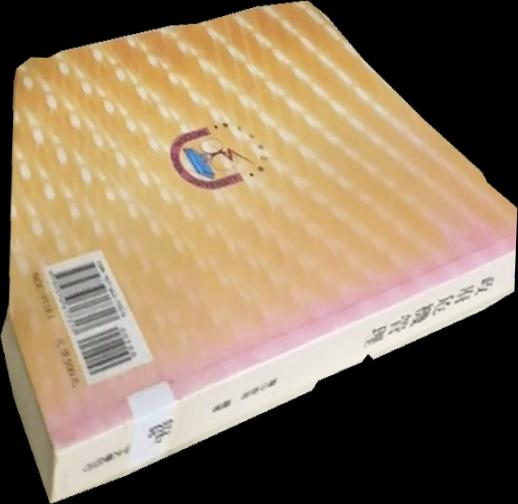flat: (1, 1, 518, 504)
